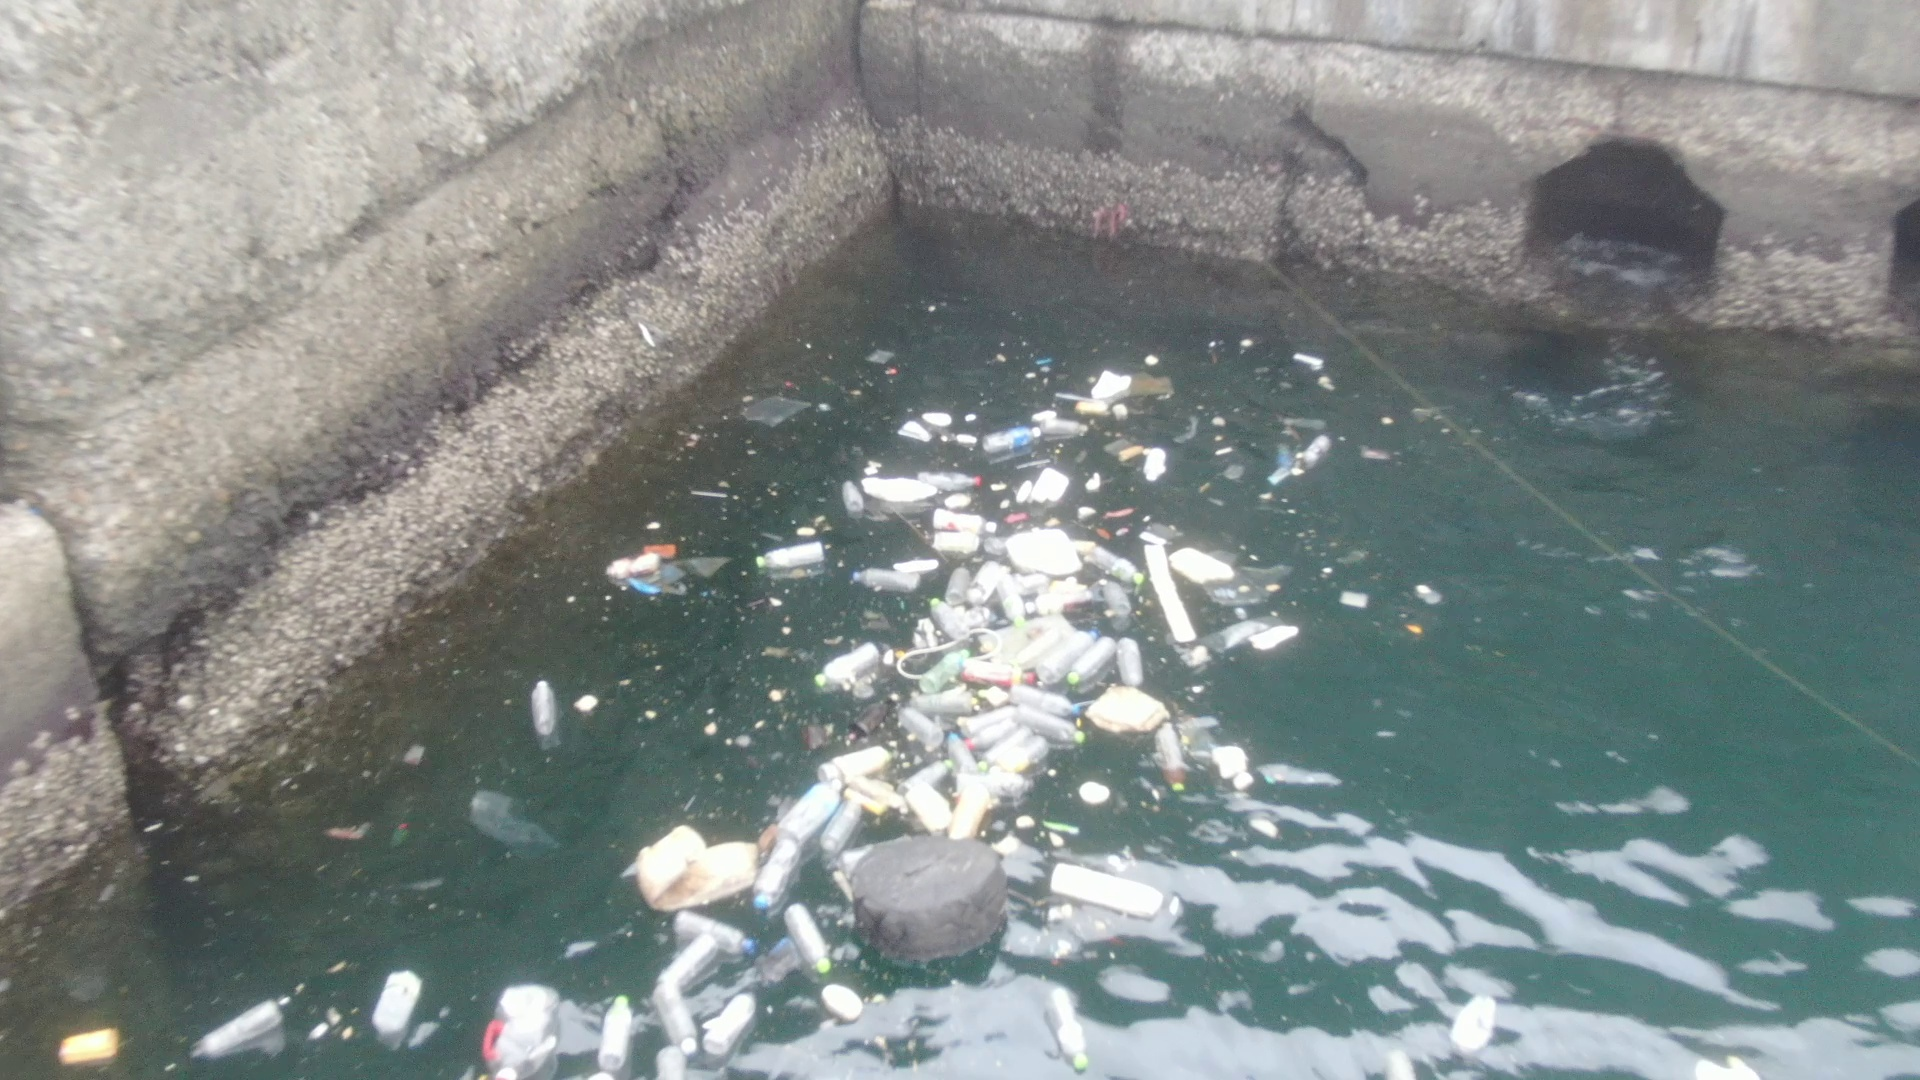bottle: (171, 988, 298, 1063), (773, 765, 851, 847), (775, 894, 833, 985), (670, 910, 760, 965), (651, 971, 700, 1056), (527, 673, 578, 749), (1055, 982, 1096, 1076), (750, 535, 837, 579), (603, 985, 644, 1077), (1153, 713, 1196, 799), (1068, 632, 1124, 688), (920, 462, 996, 498)
garbage: (509, 517, 1323, 915), (727, 305, 1367, 676), (22, 891, 1143, 1080)
